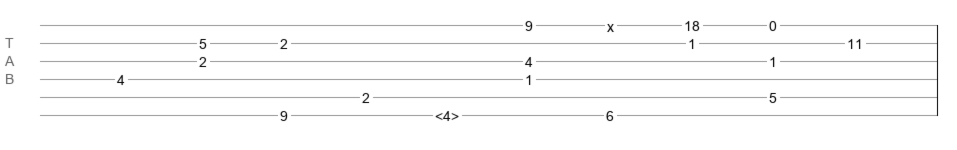0: (769, 18, 777, 28)
1: (525, 72, 533, 82), (688, 36, 696, 46), (769, 54, 777, 64)
11: (847, 36, 863, 46)
18: (684, 18, 700, 28)
2: (199, 54, 207, 64), (280, 36, 288, 46), (362, 90, 370, 100)
4: (117, 72, 125, 82), (525, 54, 533, 64)
5: (199, 36, 207, 46), (769, 90, 777, 100)
6: (606, 108, 614, 118)
9: (280, 108, 288, 118), (525, 18, 533, 28)
harmonic: (435, 108, 459, 118)
x: (607, 19, 614, 27)
